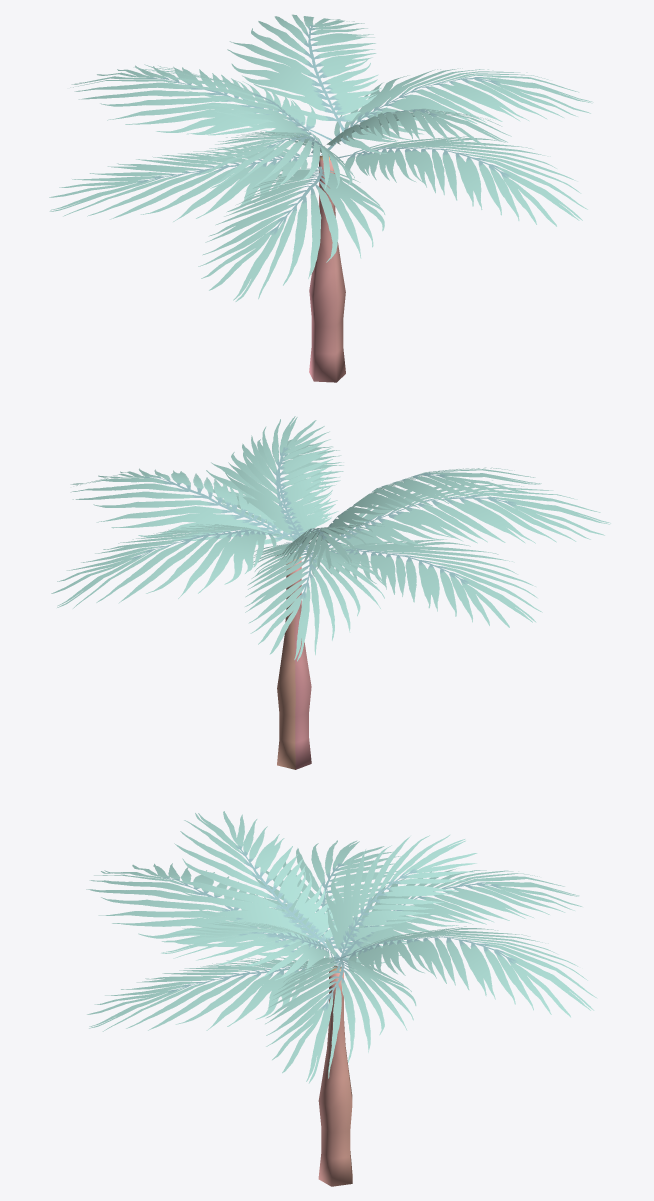
The model's file is M.palm_tree-v1.1.fbx.
The picture shows the model from 3 angles, top to bottom: view 1: azimuth 30°, elevation 25°; view 2: azimuth 150°, elevation 25°; view 3: azimuth 270°, elevation 25°; orthographic projection. The views are drawn at different scales.
Visible parts, largest first — view 1: leaf2.035; view 2: leaf2.035; view 3: leaf2.035.
Part boxes in pixels (<box>): leaf2.035: <box>49,14,593,382</box>; leaf2.035: <box>51,416,610,769</box>; leaf2.035: <box>86,811,597,1186</box>.
Bounding box in the file's own units: 485 × 263 × 512.
